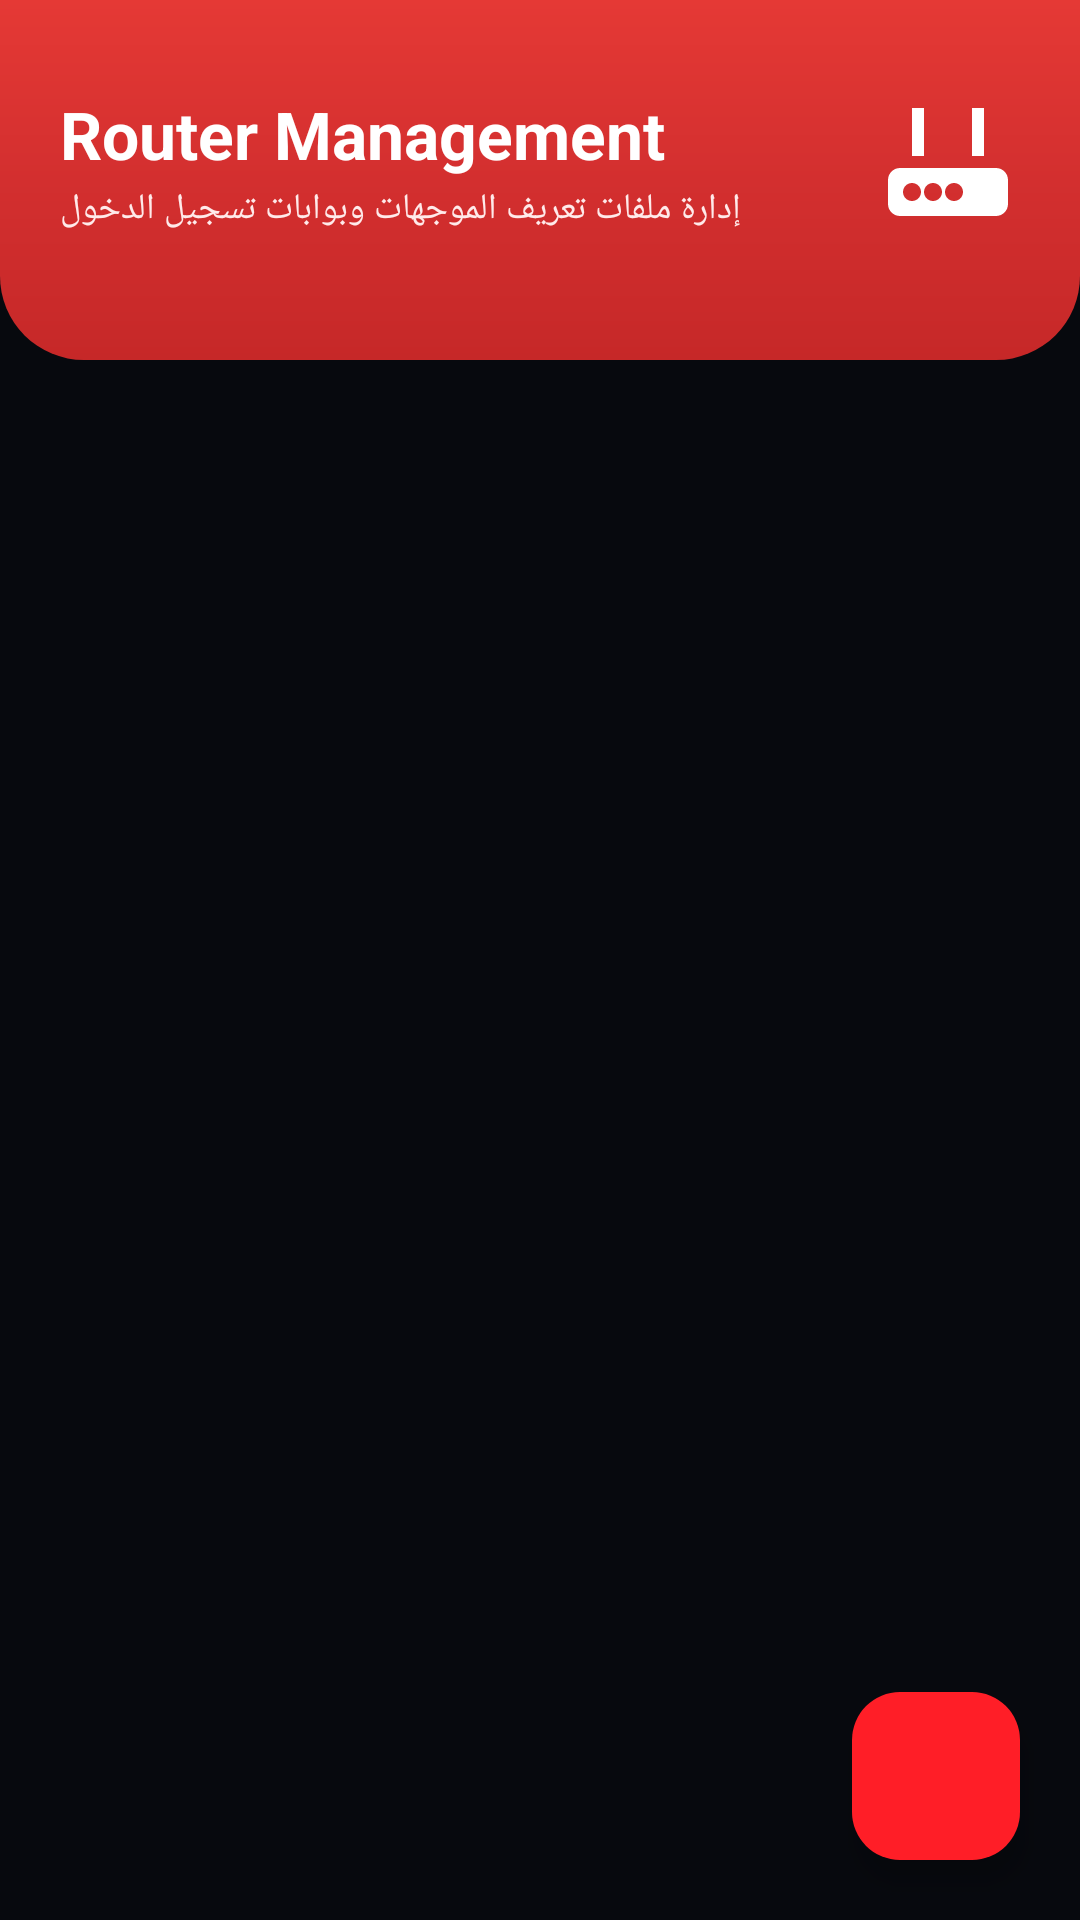

Where to tap for icons on this 1080 × 1920 app screen, as (x,y):
router: (948,162)
